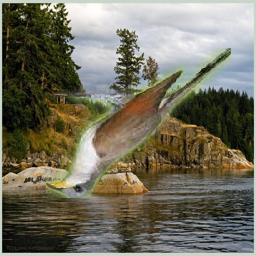Cuckoo: (47, 48, 232, 198)
